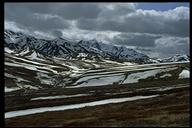cloud: (12, 5, 186, 28)
mountain: (5, 35, 189, 121)
